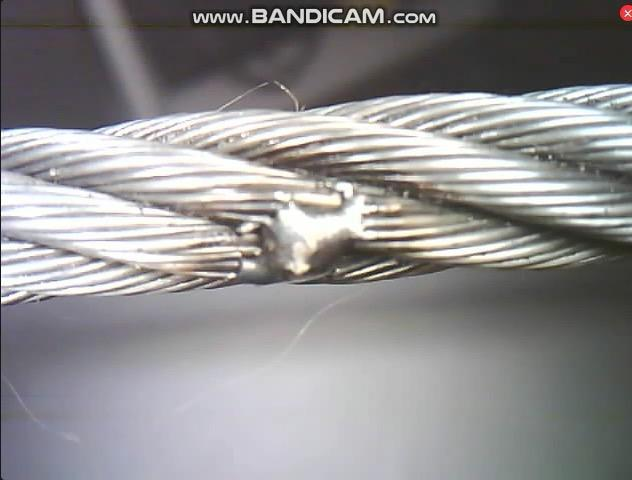thunderbolt: (228, 169, 408, 288)
